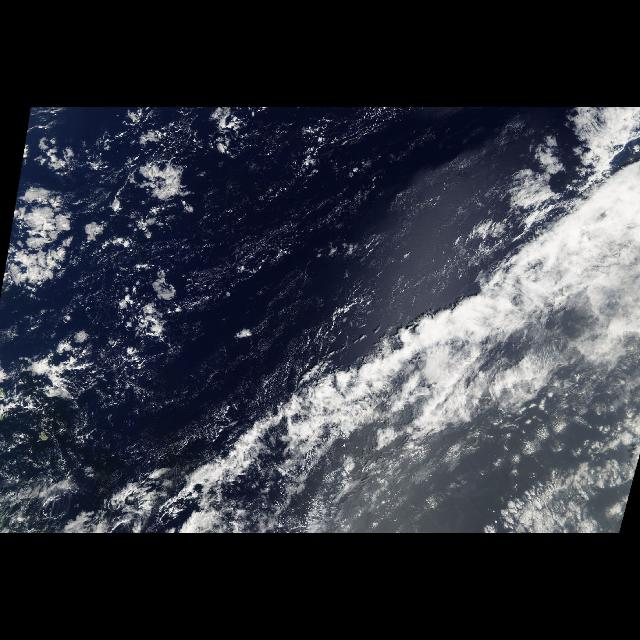Sugar: (154, 109, 470, 337)
